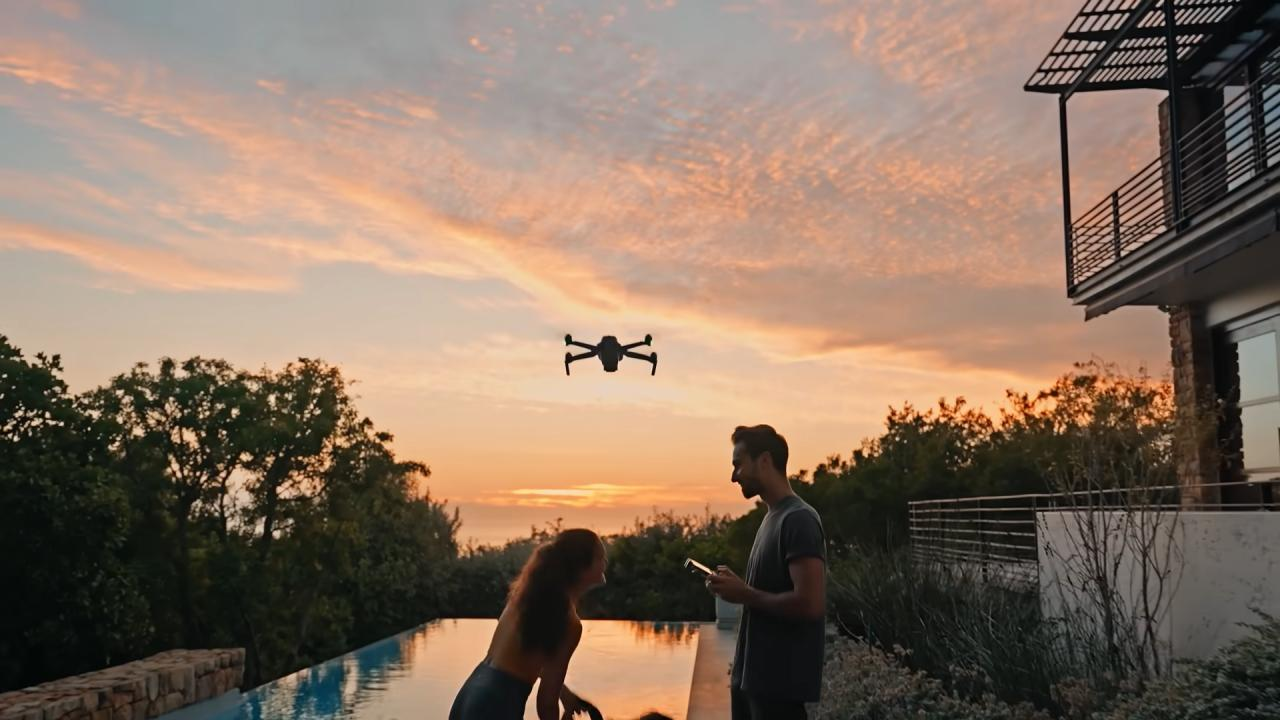Drone: (552, 316, 670, 387)
